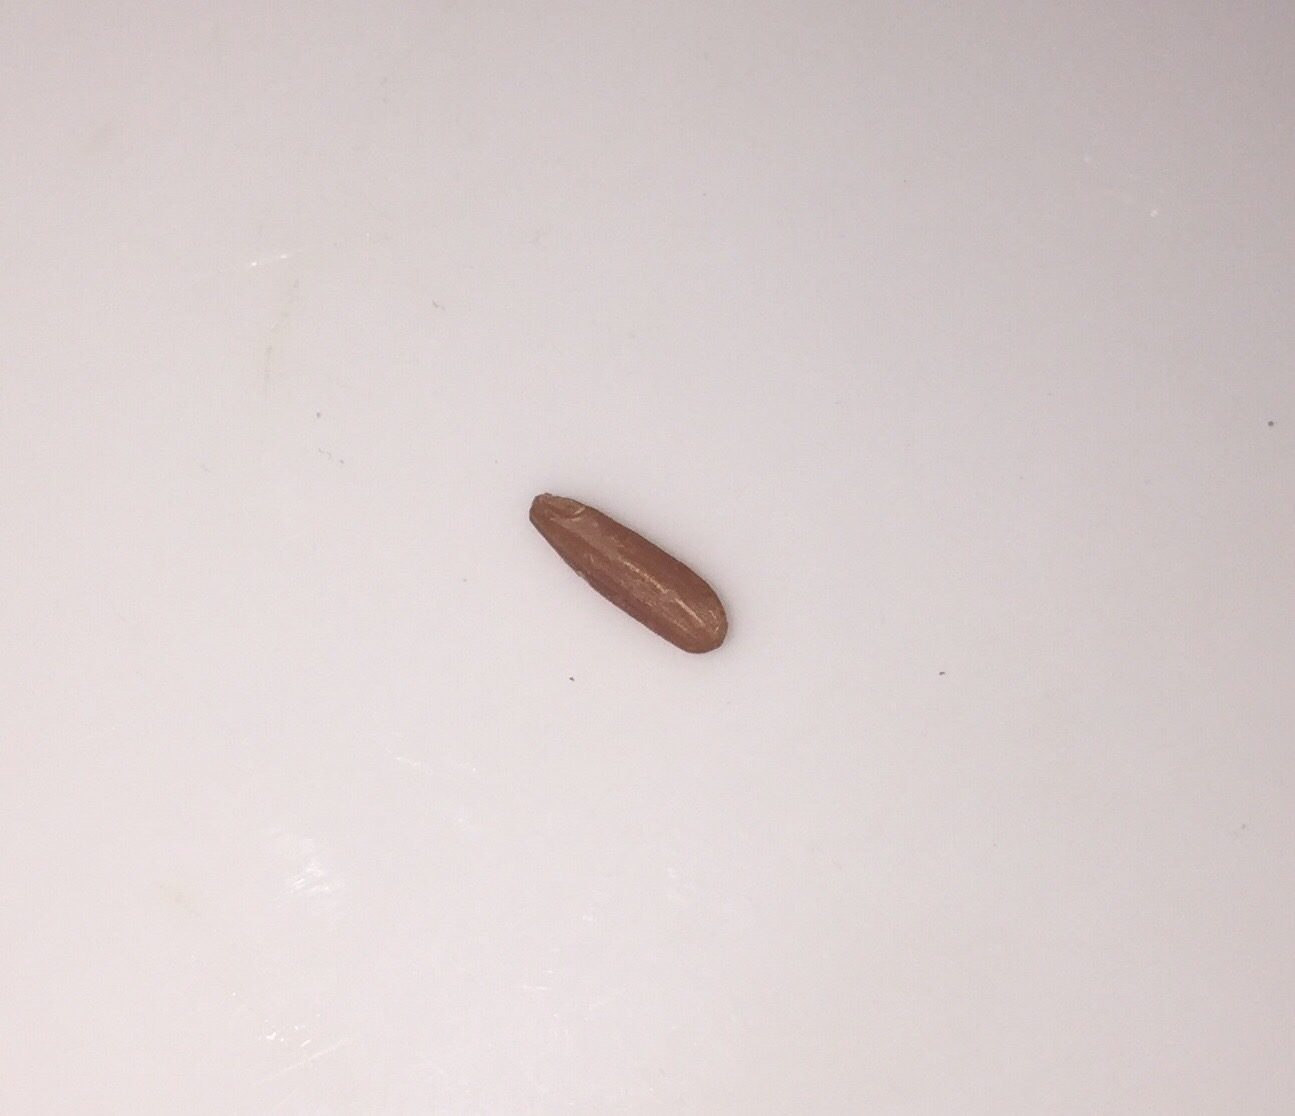Gao Huyet Rong: (510, 487, 743, 675)
